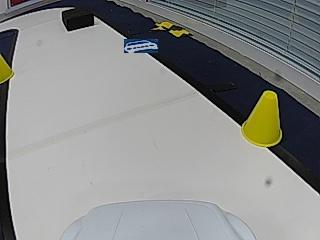block: (61, 7, 94, 31)
cone: (243, 91, 283, 146), (0, 51, 16, 83)
